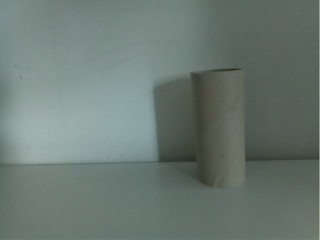rollo papel: (189, 68, 248, 188)
